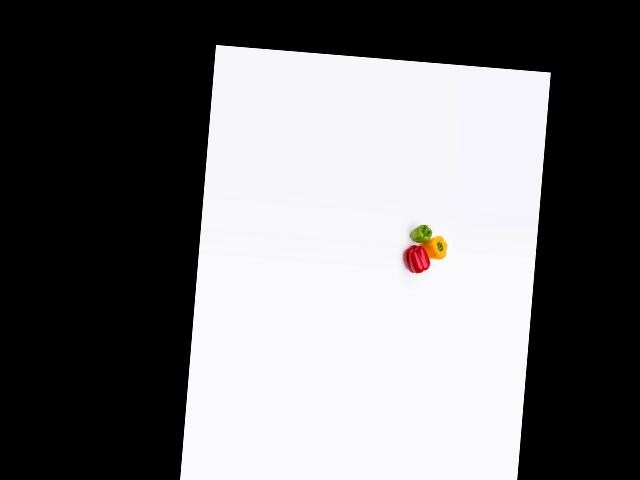bell_pepper: (409, 218, 435, 244)
